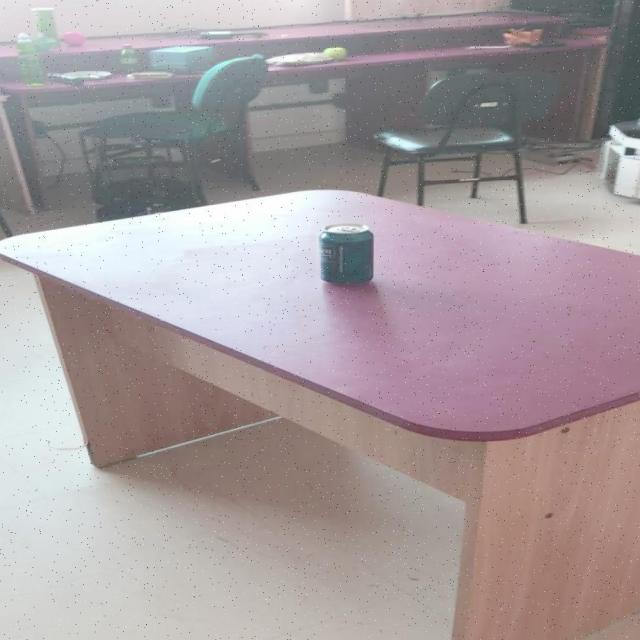Tonic: (316, 222, 374, 284), (13, 32, 44, 85), (30, 7, 59, 41), (118, 44, 138, 71)
